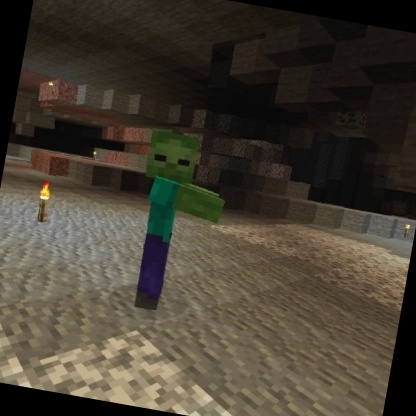zombie: (116, 124, 240, 324)
